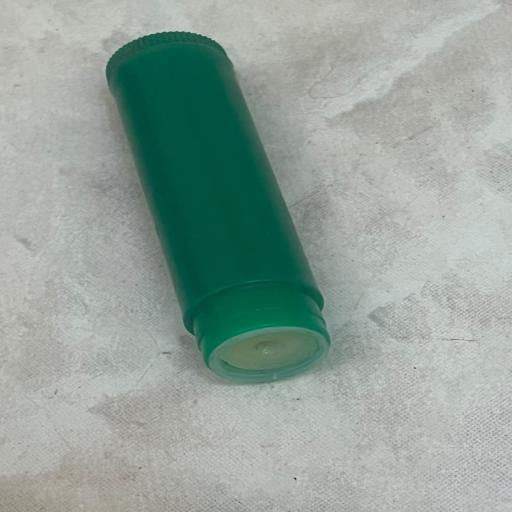HDPE: (67, 36, 416, 409)
